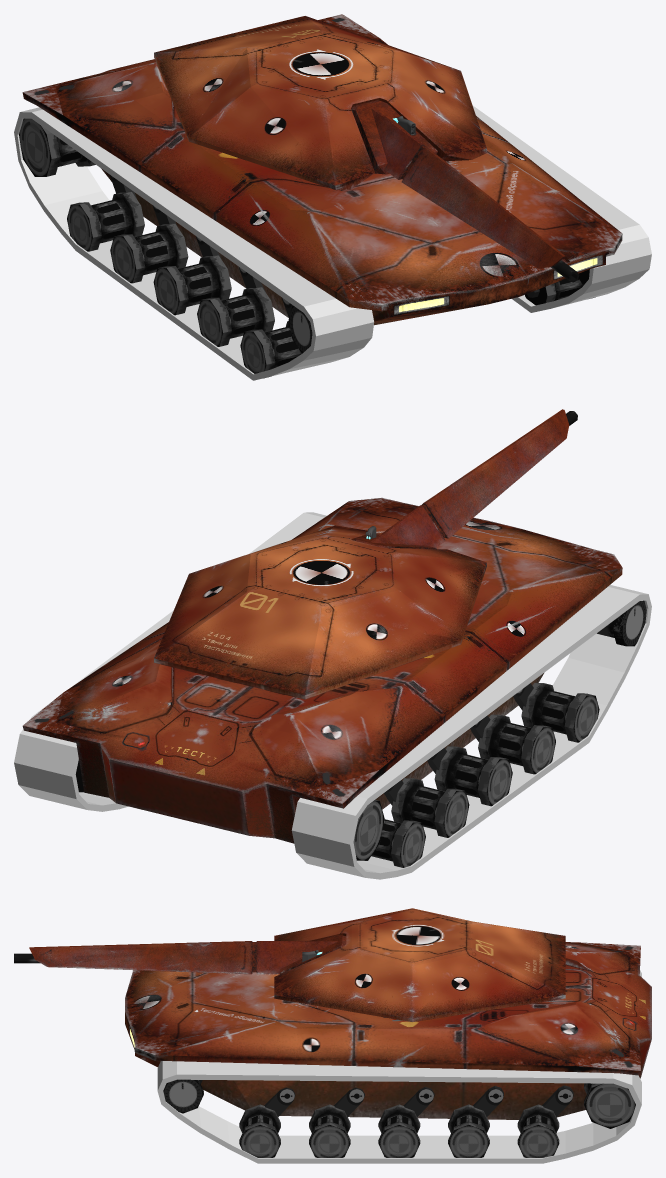
The model's file is test_tank-fin.fbx.
3 renders of one model, top to bottom at view 1: azimuth 30°, elevation 25°; view 2: azimuth 150°, elevation 25°; view 3: azimuth 270°, elevation 25°, orthographic. The views are drawn at different scales.
Parts seen in each view (by area): view 1: body, tower, gusenitsi, gun, Cylinder.013, Cylinder.012, Cylinder.014, Cylinder.015, Cylinder.022, Cylinder.011, Cylinder.002, Cylinder.021; view 2: body, tower, gusenitsi, gun, Cylinder.014, Cylinder.012, Cylinder.013, Cylinder.011, Cylinder.015, Cylinder.022, Cylinder.021; view 3: body, tower, gusenitsi, gun, Cylinder.023, Cylinder.008, Cylinder.009, Cylinder.007, Cylinder.010, Cylinder.002, Cylinder.024, Cylinder.006 (+4 smaller).
Part boxes in pixels (x1=…): body: x1=22, y1=14, x2=622, y2=325; tower: x1=154, y1=16, x2=486, y2=189; gusenitsi: x1=14, y1=105, x2=651, y2=380; gun: x1=351, y1=100, x2=569, y2=268; Cylinder.013: x1=153, y1=255, x2=231, y2=315; Cylinder.012: x1=197, y1=287, x2=274, y2=346; Cylinder.014: x1=110, y1=223, x2=188, y2=283; Cylinder.015: x1=67, y1=192, x2=144, y2=251; Cylinder.022: x1=19, y1=118, x2=95, y2=176; Cylinder.011: x1=240, y1=321, x2=302, y2=378; Cylinder.002: x1=525, y1=278, x2=595, y2=305; Cylinder.021: x1=288, y1=305, x2=312, y2=352; body: x1=22, y1=497, x2=622, y2=843; tower: x1=154, y1=525, x2=486, y2=699; gusenitsi: x1=14, y1=512, x2=651, y2=879; gun: x1=353, y1=409, x2=569, y2=548; Cylinder.014: x1=391, y1=778, x2=469, y2=837; Cylinder.012: x1=478, y1=714, x2=555, y2=774; Cylinder.013: x1=434, y1=746, x2=512, y2=806; Cylinder.011: x1=521, y1=683, x2=599, y2=742; Cylinder.015: x1=371, y1=819, x2=425, y2=867; Cylinder.022: x1=353, y1=799, x2=384, y2=860; Cylinder.021: x1=597, y1=600, x2=646, y2=646; body: x1=125, y1=942, x2=651, y2=1119; tower: x1=274, y1=908, x2=565, y2=1021; gusenitsi: x1=157, y1=970, x2=641, y2=1163; gun: x1=29, y1=935, x2=346, y2=974; Cylinder.023: x1=584, y1=1083, x2=635, y2=1128; Cylinder.008: x1=378, y1=1104, x2=420, y2=1157; Cylinder.009: x1=448, y1=1104, x2=489, y2=1157; Cylinder.007: x1=309, y1=1104, x2=350, y2=1157; Cylinder.010: x1=517, y1=1104, x2=559, y2=1157; Cylinder.002: x1=239, y1=1104, x2=280, y2=1157; Cylinder.024: x1=163, y1=1079, x2=203, y2=1113; Cylinder.006: x1=542, y1=1085, x2=573, y2=1117.
Bounding box in the file's own units: 210 × 121 × 431.
